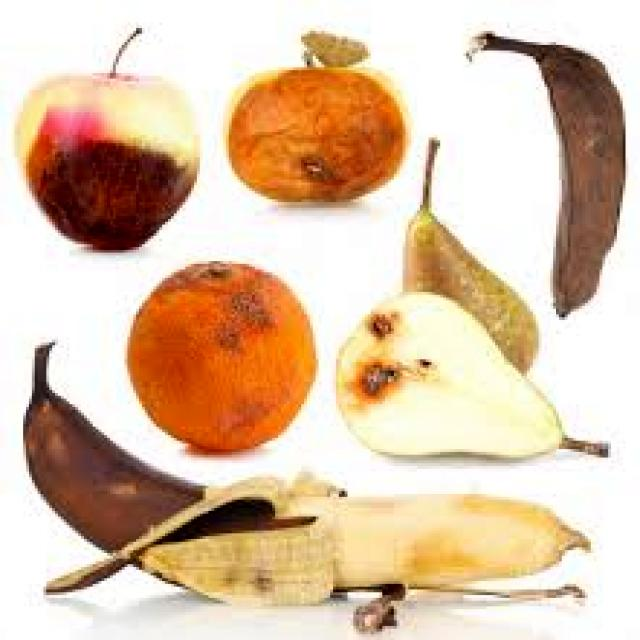Trash: (522, 33, 640, 320)
